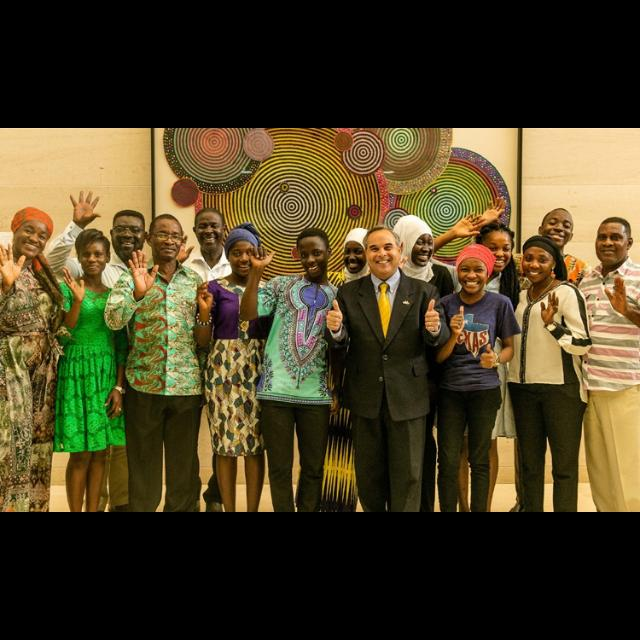head: (362, 228, 406, 280), (476, 220, 516, 274), (109, 209, 149, 261), (594, 216, 636, 264), (296, 228, 334, 280), (146, 213, 186, 261), (12, 210, 50, 260), (398, 219, 436, 269), (520, 238, 560, 284), (77, 228, 115, 276), (226, 228, 260, 278), (538, 208, 576, 250), (456, 251, 492, 295), (343, 226, 375, 274), (192, 208, 228, 250)
